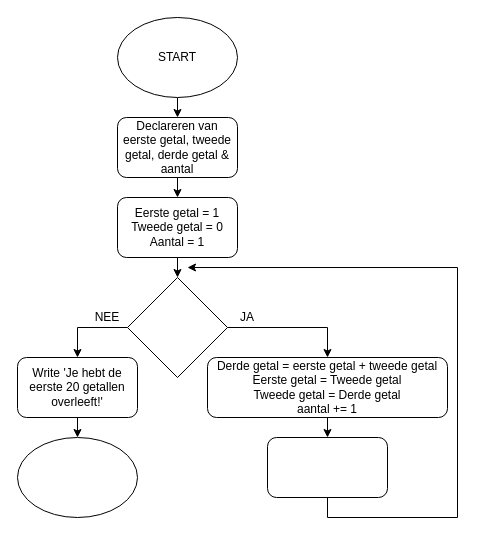
This 483x543 diagram has some shape labels left out. The shapes that lost their labels are listed below. From the top down, each one's centre as x and y in pixels, then its label:
At pixel 177 327: "Aantal < 21".
At pixel 77 477: "STOP".
At pixel 327 467: "Write Derde getal".
